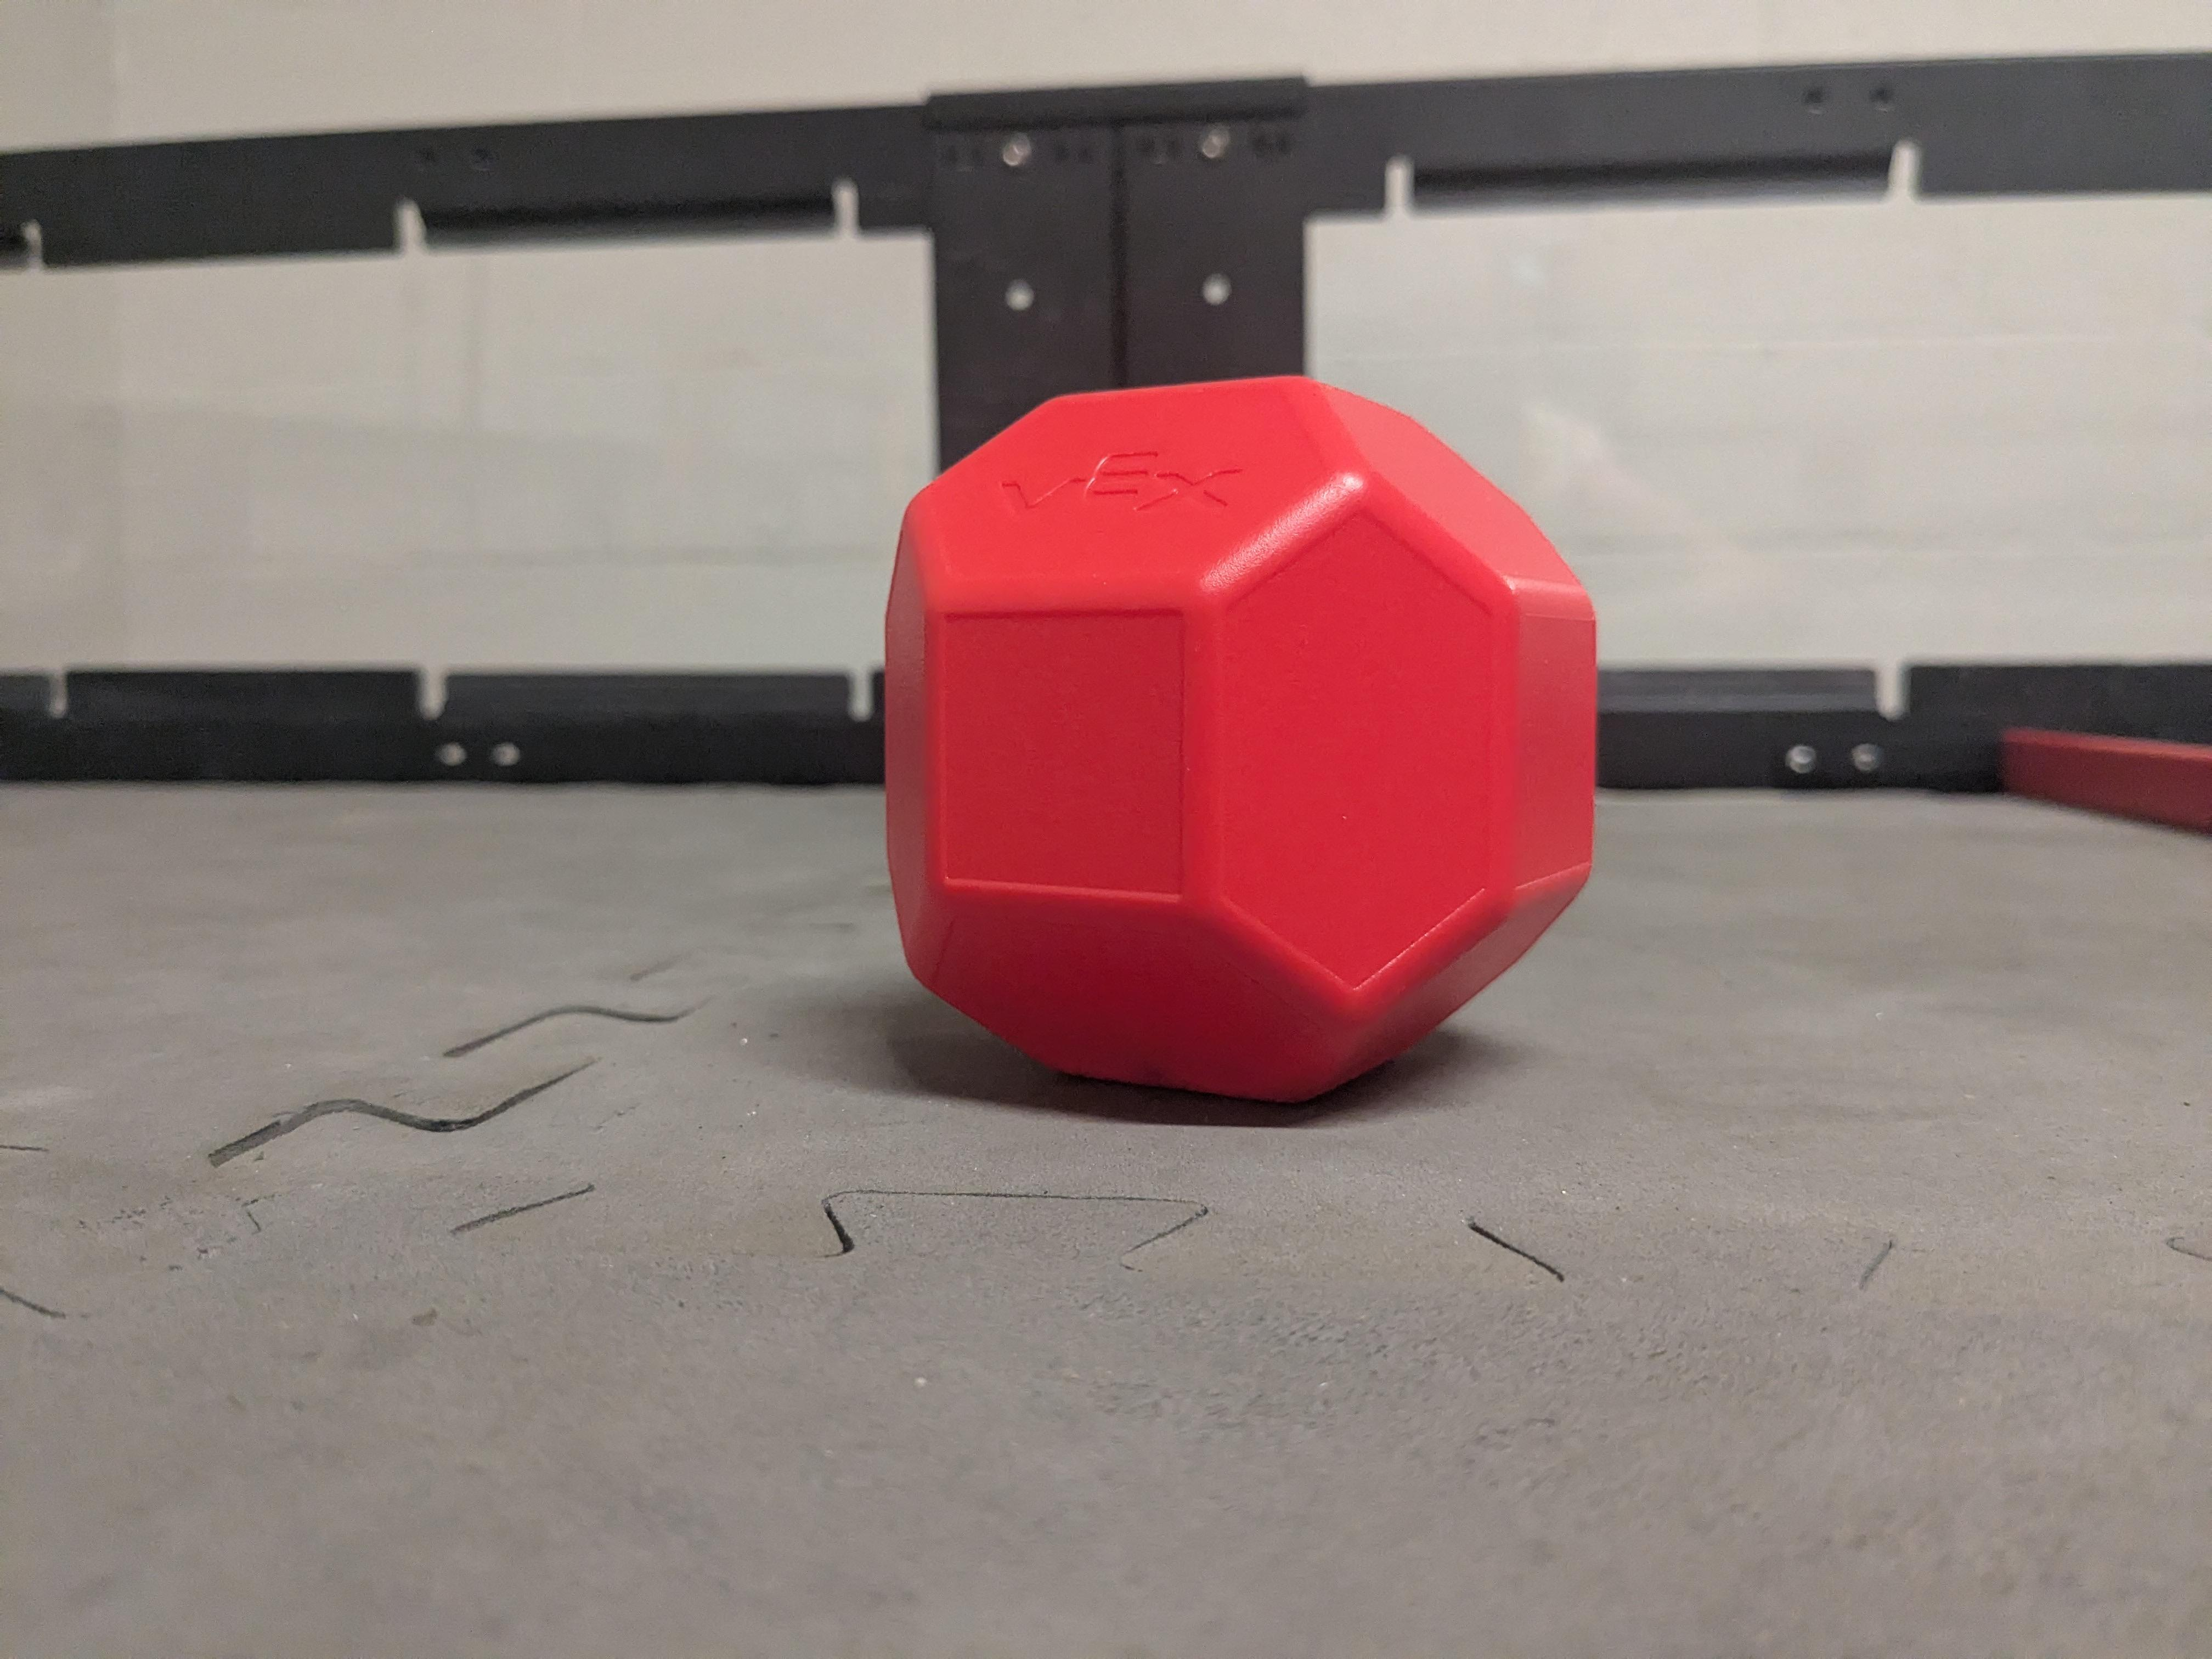Vex-Pieces-RED: (874, 378, 1599, 1107)
